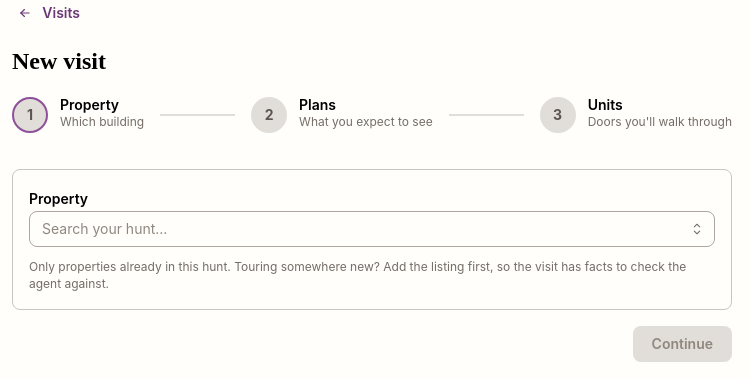
Test case: VisitCreatePage › offers only properties already in this hunt
Click the dropdown labelled "Property" at (372, 229), box [29,211,715,247]
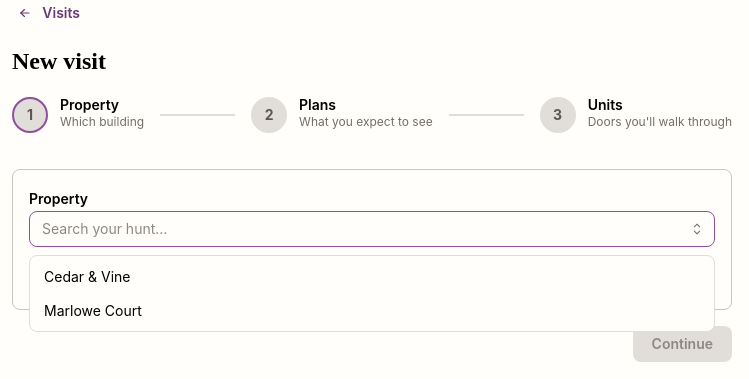
Expected: the option "Cedar & Vine" is shown, [44,268,130,285]
Expected: the option "Marlowe Court" is shown, [44,302,142,319]
Expected: the number of options is 2, [44,268,130,285]; [44,302,142,319]
